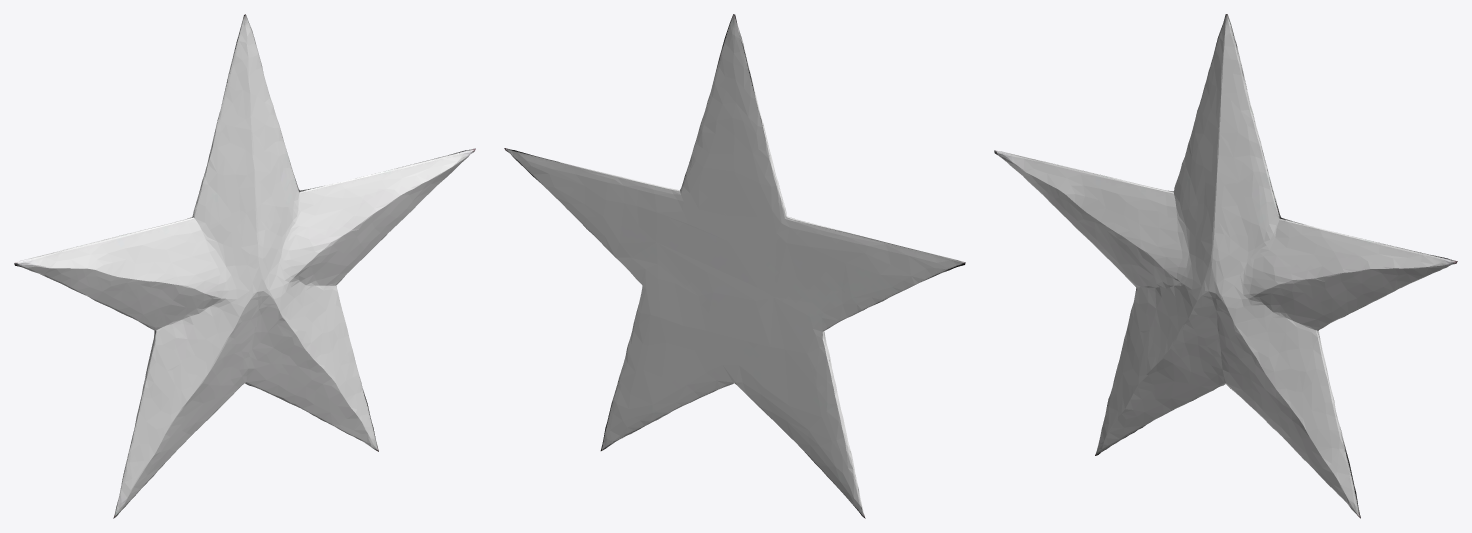
The model's file is star.glb.
3 views of the same model, side by side, from view 1: azimuth 30°, elevation 25°; view 2: azimuth 150°, elevation 25°; view 3: azimuth 330°, elevation 25° (orthographic).
Parts seen in each view (by area): view 1: geometry_0; view 2: geometry_0; view 3: geometry_0.
Boxes of the visible parts, box(x1,y1,x2,y2) form: geometry_0: box(14, 14, 475, 518); geometry_0: box(504, 14, 965, 518); geometry_0: box(994, 14, 1457, 518).
Bounding box in the file's own units: 0.9998 × 0.9794 × 0.0622.
Materials: 1 (1 with a texture image).
